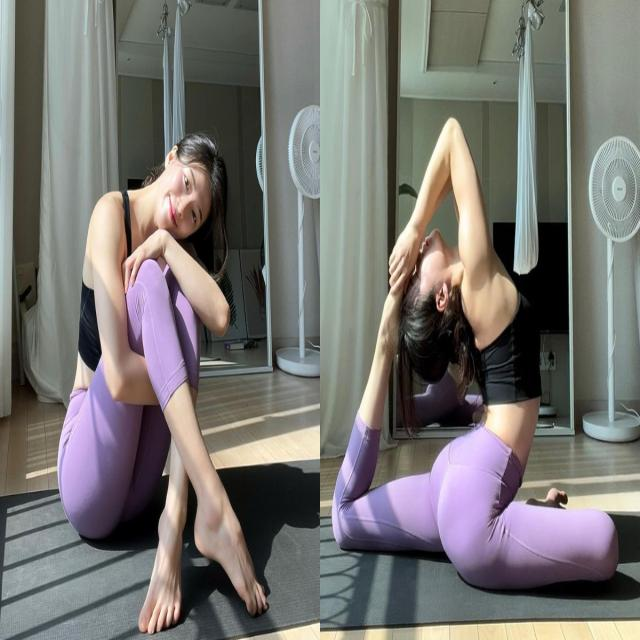sit: (352, 143, 624, 618), (55, 129, 260, 640)
